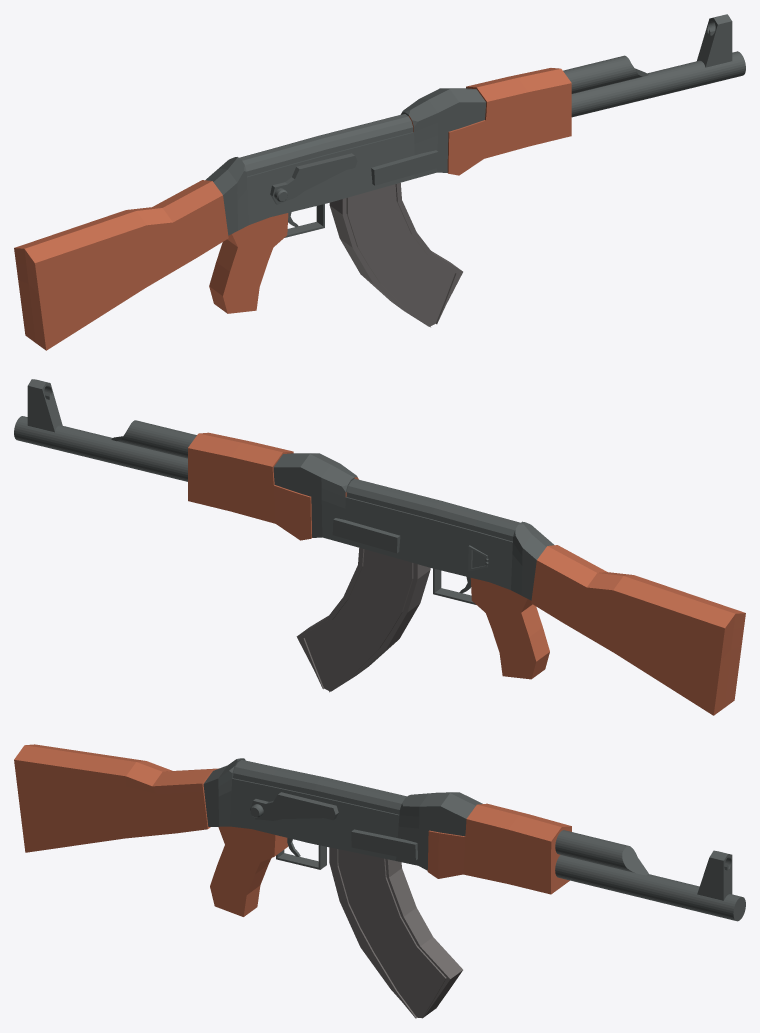
The model's file is AKGUN_DONE.fbx.
3 views of the same model, one above another, from view 1: azimuth 30°, elevation 25°; view 2: azimuth 150°, elevation 25°; view 3: azimuth 330°, elevation 25° (orthographic).
Parts seen in each view (by area): view 1: gun, Mag; view 2: gun, Mag; view 3: gun, Mag.
Boxes of the visible parts, bbox=[...] form: gun: bbox=[14, 14, 745, 350]; Mag: bbox=[329, 183, 462, 327]; gun: bbox=[14, 379, 745, 715]; Mag: bbox=[296, 548, 430, 692]; gun: bbox=[14, 744, 745, 921]; Mag: bbox=[329, 847, 462, 1018].
Bounding box in the file's own units: 475 × 148 × 29.67.
